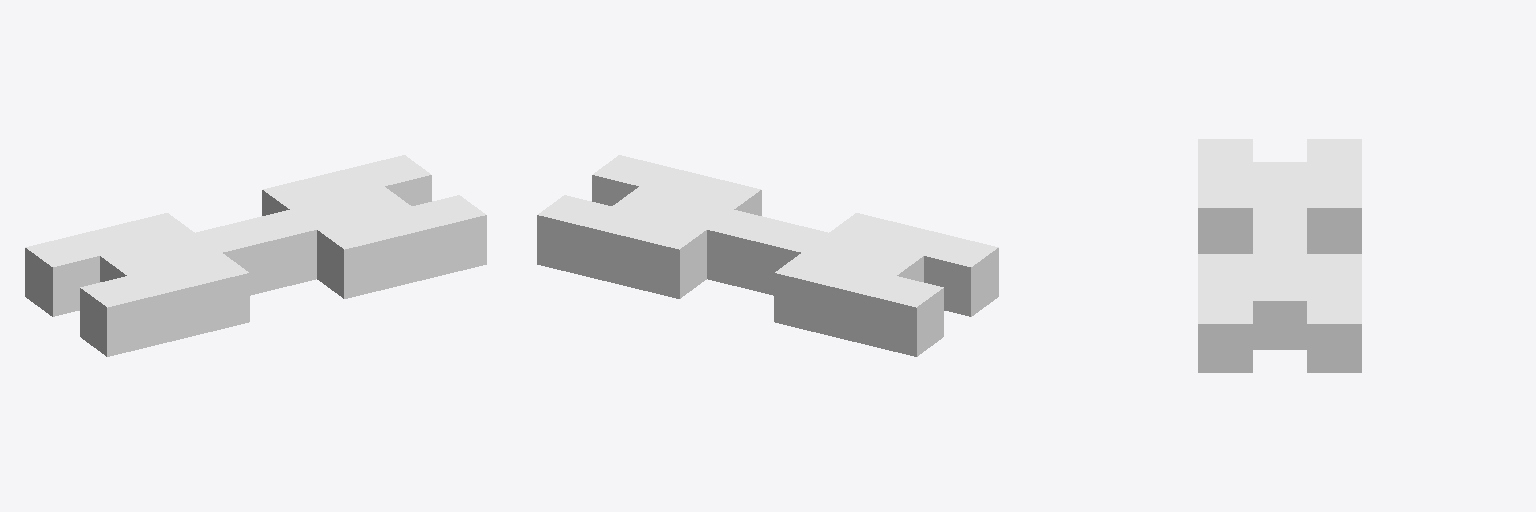
File: Waren.obj
The picture shows the model from 3 angles: view 1: azimuth 30°, elevation 25°; view 2: azimuth 150°, elevation 25°; view 3: azimuth 270°, elevation 25°; orthographic projection.
Parts seen in each view (by area): view 1: object 1; view 2: object 1; view 3: object 1.
Boxes of the visible parts, box(x1,y1,x2,y2) form: object 1: box(25, 155, 486, 356); object 1: box(537, 155, 998, 356); object 1: box(1198, 139, 1361, 372).
Size of the model in its own units: 0.8 by 0.1 by 0.3.